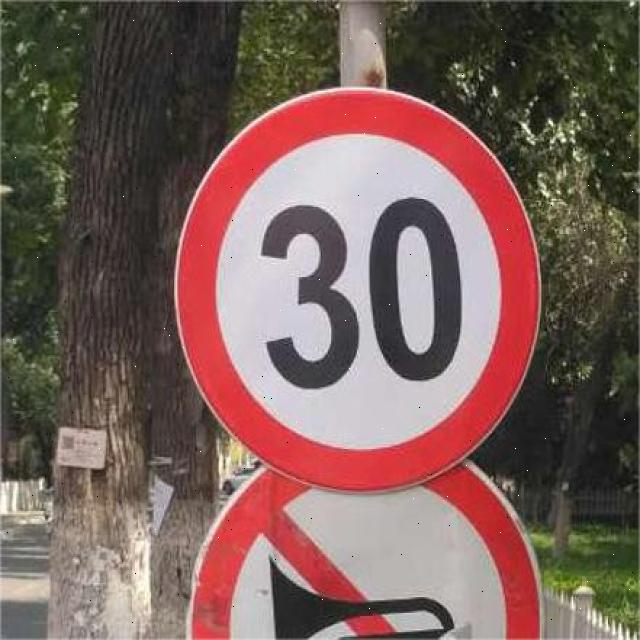speed limit 30: (174, 86, 541, 495)
